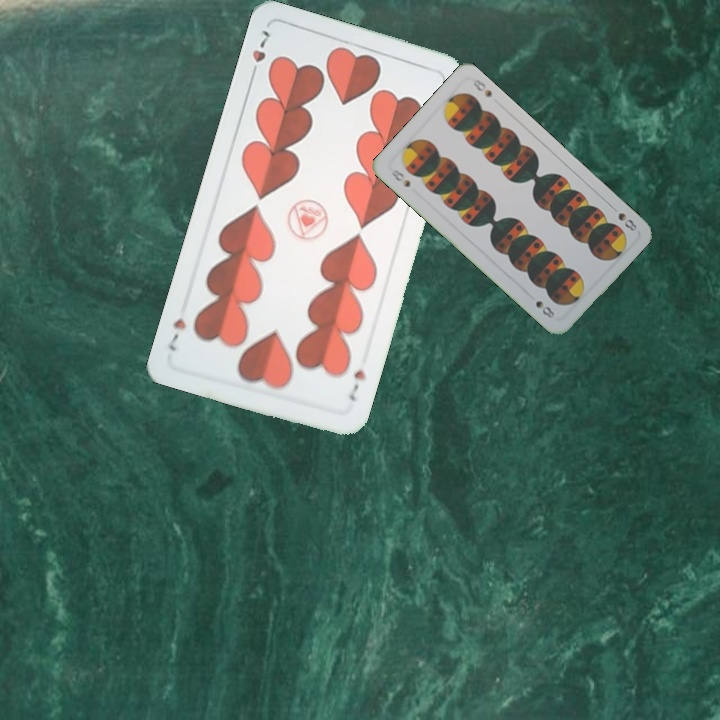H7: (246, 26, 272, 82), (344, 365, 368, 403)
S8: (606, 201, 640, 234), (387, 166, 413, 190)
